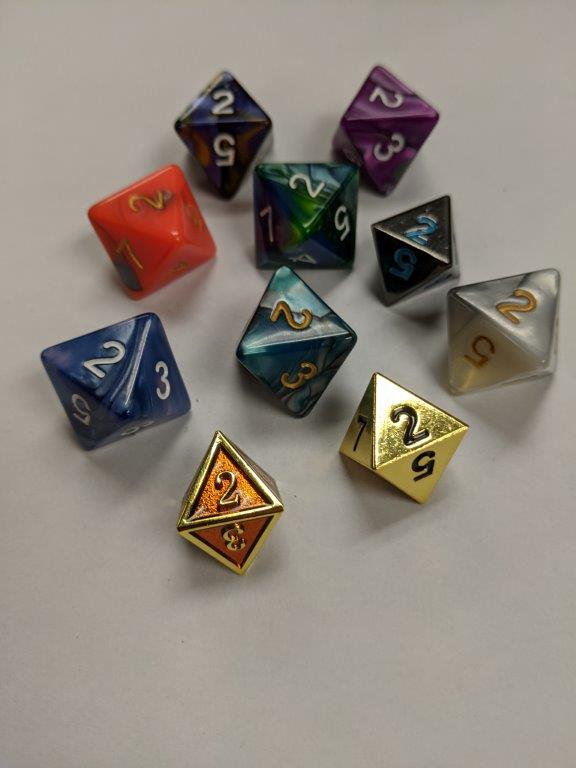d8-2: (40, 314, 192, 452), (85, 162, 218, 301), (238, 267, 357, 417), (342, 368, 466, 506), (175, 432, 283, 577), (447, 268, 562, 396), (332, 65, 438, 195), (174, 71, 268, 199), (252, 163, 356, 266), (371, 190, 464, 304)
